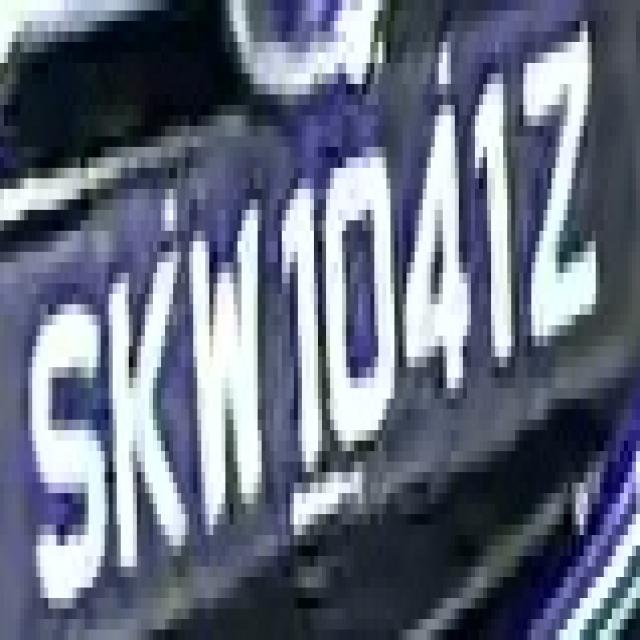0: (318, 126, 398, 462)
1: (463, 52, 515, 398), (274, 157, 322, 493)
4: (394, 94, 483, 388)
K: (97, 220, 189, 588)
S: (20, 252, 109, 608)
W: (169, 136, 278, 524)
Z: (507, 11, 612, 388)
